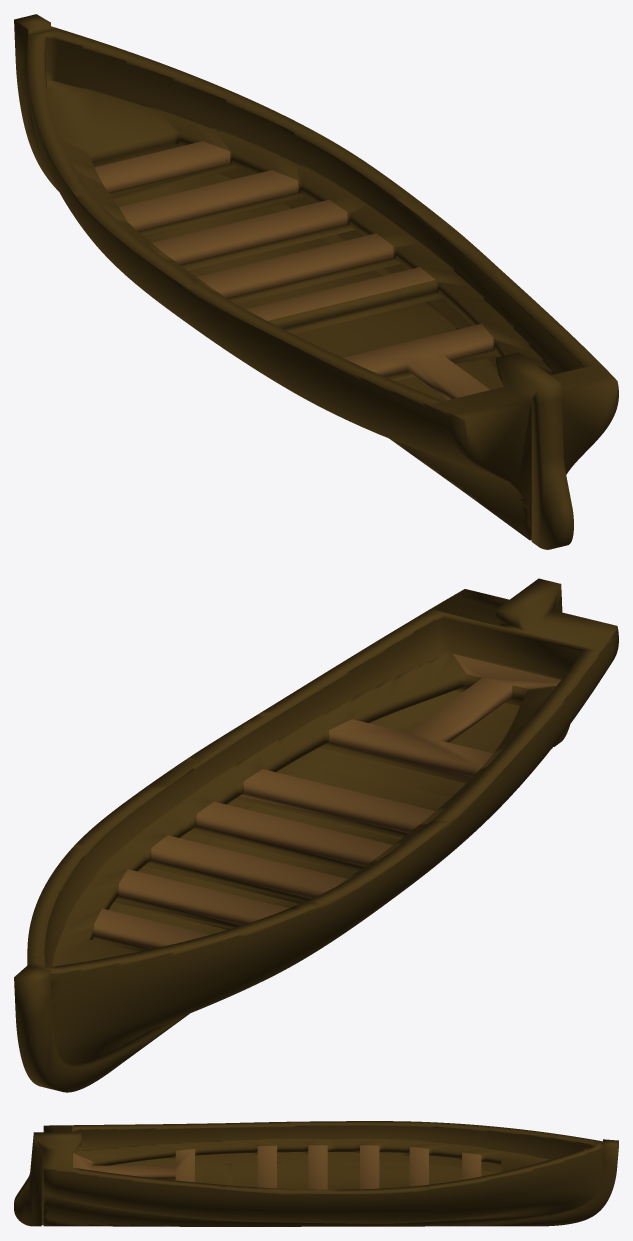
File: lifeboat.fbx
3 views of the same model, one above another, from view 1: azimuth 30°, elevation 25°; view 2: azimuth 150°, elevation 25°; view 3: azimuth 270°, elevation 25° (orthographic). The views are drawn at different scales.
Parts seen in each view (by area): view 1: lifeboat big (4x B,D); view 2: lifeboat big (4x B,D); view 3: lifeboat big (4x B,D).
Boxes of the visible parts, x1,y1,x2,y2 form: lifeboat big (4x B,D): [14, 14, 618, 549]; lifeboat big (4x B,D): [14, 578, 618, 1092]; lifeboat big (4x B,D): [14, 1121, 618, 1226].
Size of the model in its own units: 2268 by 1290 by 8025.
